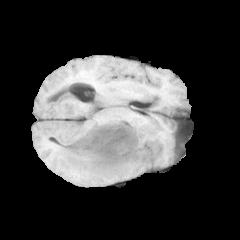glioma: (54, 120, 153, 183)
